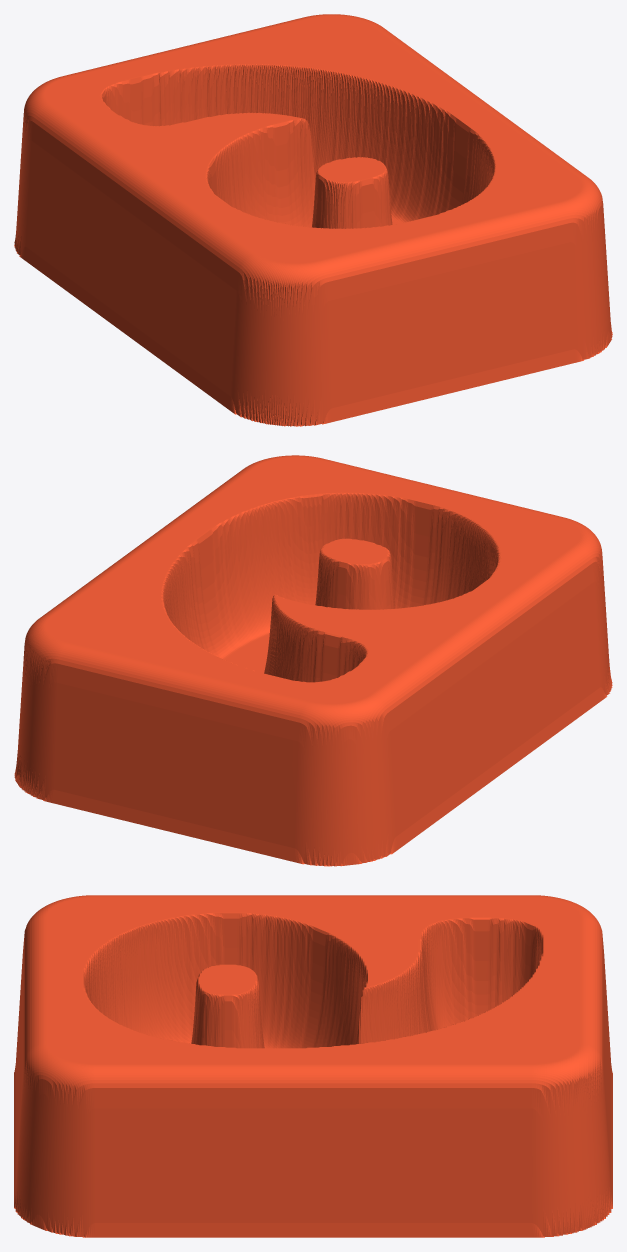
Rendered from mold.glb.
3 renders of one model, top to bottom at view 1: azimuth 30°, elevation 25°; view 2: azimuth 150°, elevation 25°; view 3: azimuth 270°, elevation 25°, orthographic. The views are drawn at different scales.
Parts seen in each view (by area): view 1: geometry_0; view 2: geometry_0; view 3: geometry_0.
Boxes of the visible parts, left/top/right/bottom form: geometry_0: left=14, top=14, right=612, bottom=426; geometry_0: left=14, top=455, right=612, bottom=866; geometry_0: left=14, top=895, right=612, bottom=1237.
Bounding box in the file's own units: 0.0514 × 0.0197 × 0.067.
